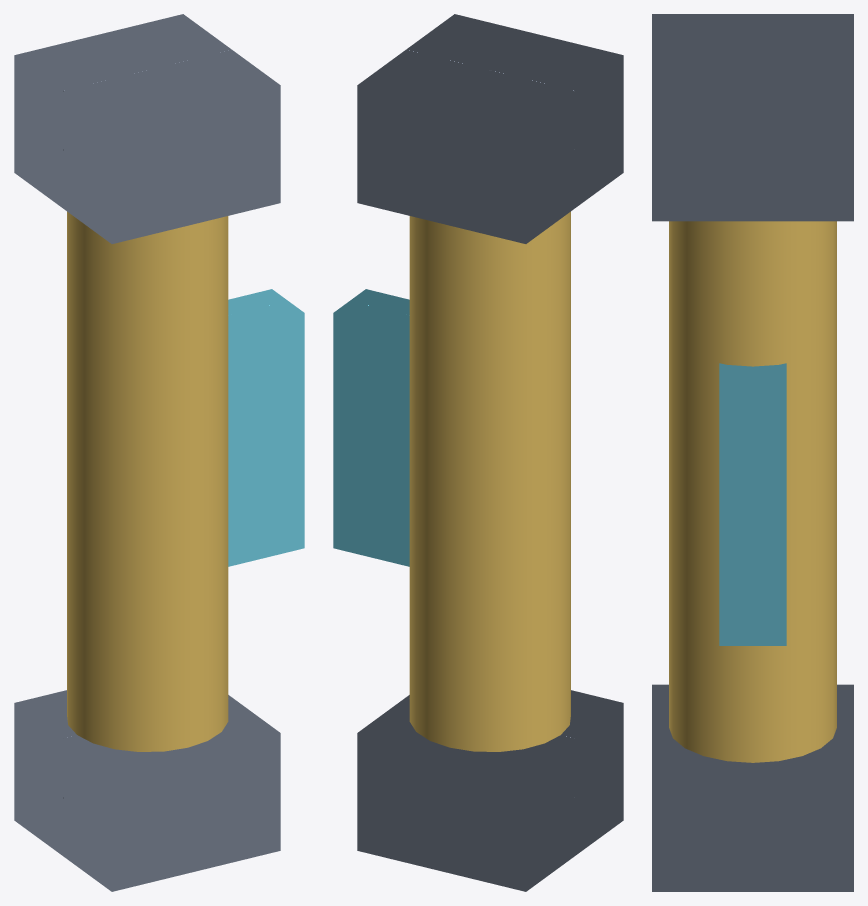
File: stress_strain.glb
3 renders of one model, left to right at view 1: azimuth 30°, elevation 25°; view 2: azimuth 150°, elevation 25°; view 3: azimuth 270°, elevation 25°, orthographic. The views are drawn at different scales.
Visible parts, largest first — view 1: TensileSpecimen, GripJaws_Top, GripJaws_Bottom, Extensometer; view 2: TensileSpecimen, GripJaws_Top, GripJaws_Bottom, Extensometer; view 3: TensileSpecimen, GripJaws_Top, GripJaws_Bottom, Extensometer.
Boxes of the visible parts, x1,y1,x2,y2 form: TensileSpecimen: [67, 211, 228, 751]; GripJaws_Top: [14, 14, 280, 243]; GripJaws_Bottom: [14, 690, 280, 891]; Extensometer: [228, 289, 304, 566]; TensileSpecimen: [409, 211, 570, 751]; GripJaws_Top: [357, 14, 623, 243]; GripJaws_Bottom: [357, 690, 623, 891]; Extensometer: [333, 289, 409, 566]; TensileSpecimen: [669, 221, 836, 762]; GripJaws_Top: [652, 14, 853, 221]; GripJaws_Bottom: [652, 684, 853, 891]; Extensometer: [719, 363, 786, 645].
Bounding box in the file's own units: 0.8 × 2.6 × 0.6.
